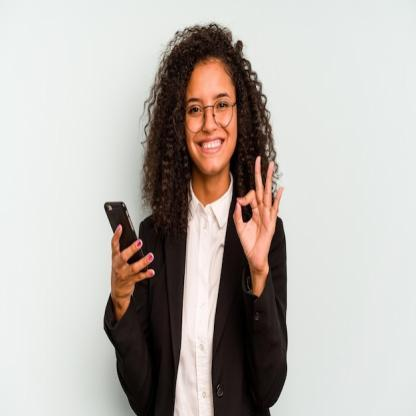ok: (234, 152, 285, 278)
